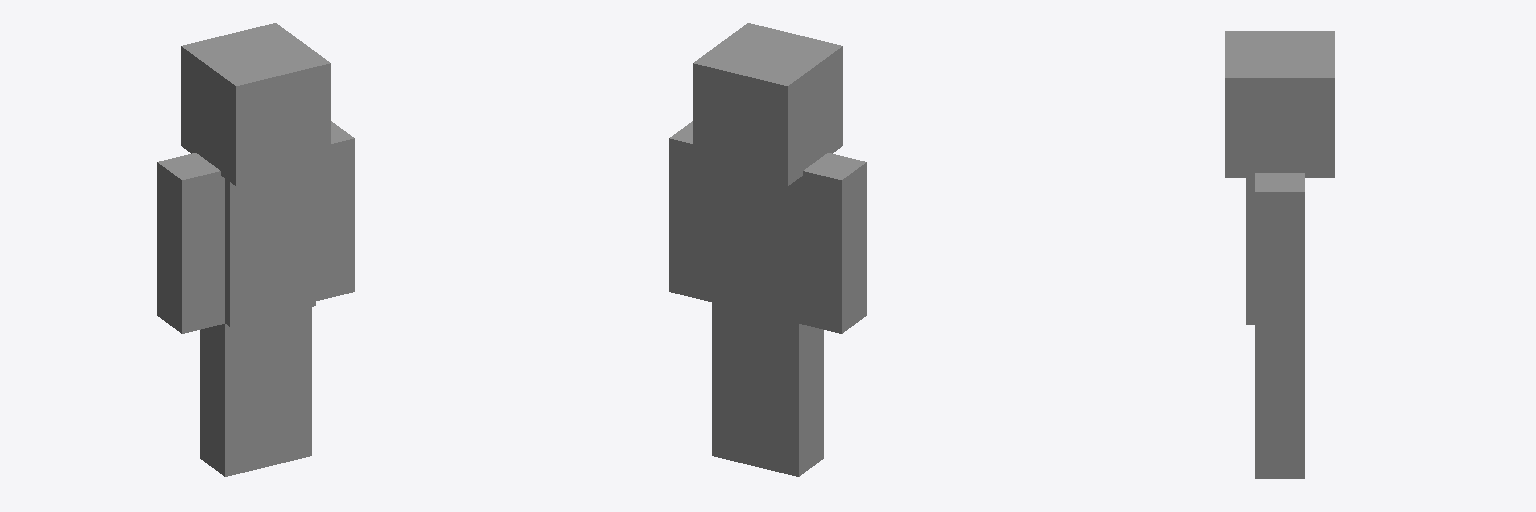
Rendered from character.obj.
The picture shows the model from 3 angles: view 1: azimuth 30°, elevation 25°; view 2: azimuth 150°, elevation 25°; view 3: azimuth 270°, elevation 25°; orthographic projection.
Visible parts, largest first — view 1: Player_Cube; view 2: Player_Cube; view 3: Player_Cube.
Boxes of the visible parts, box(x1,y1,x2,y2) form: Player_Cube: box(157, 23, 354, 476); Player_Cube: box(669, 23, 866, 476); Player_Cube: box(1225, 31, 1334, 478).
Size of the model in its own units: 0.8 by 1.78 by 0.4433.